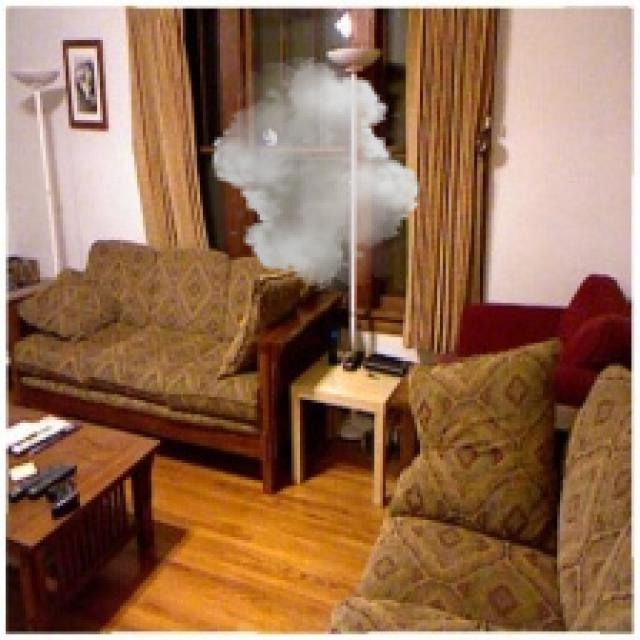smoke: (203, 57, 428, 292)
